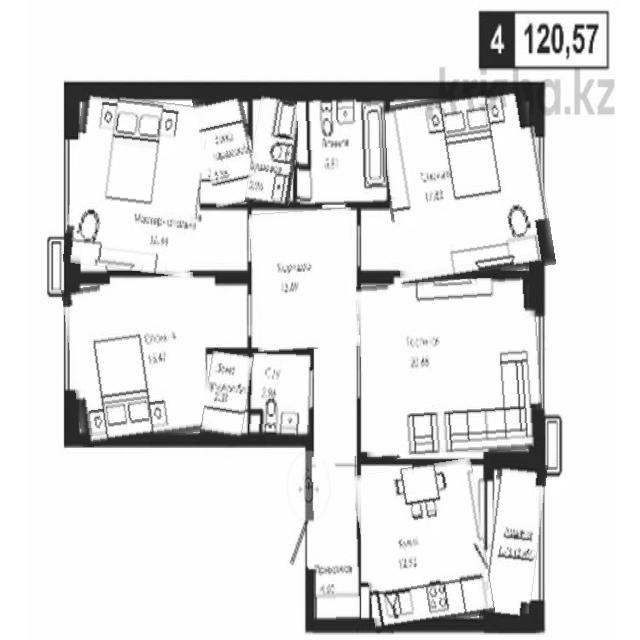balcony: (484, 460, 544, 623)
bathroom: (298, 92, 387, 205), (249, 90, 302, 207), (249, 350, 313, 440)
hallway: (252, 209, 358, 350), (309, 457, 360, 621)
kitchen: (357, 462, 490, 628)
living_room: (359, 278, 543, 458), (380, 89, 550, 282), (68, 95, 206, 274), (66, 276, 209, 443)
other: (197, 87, 258, 207), (203, 350, 251, 444)
